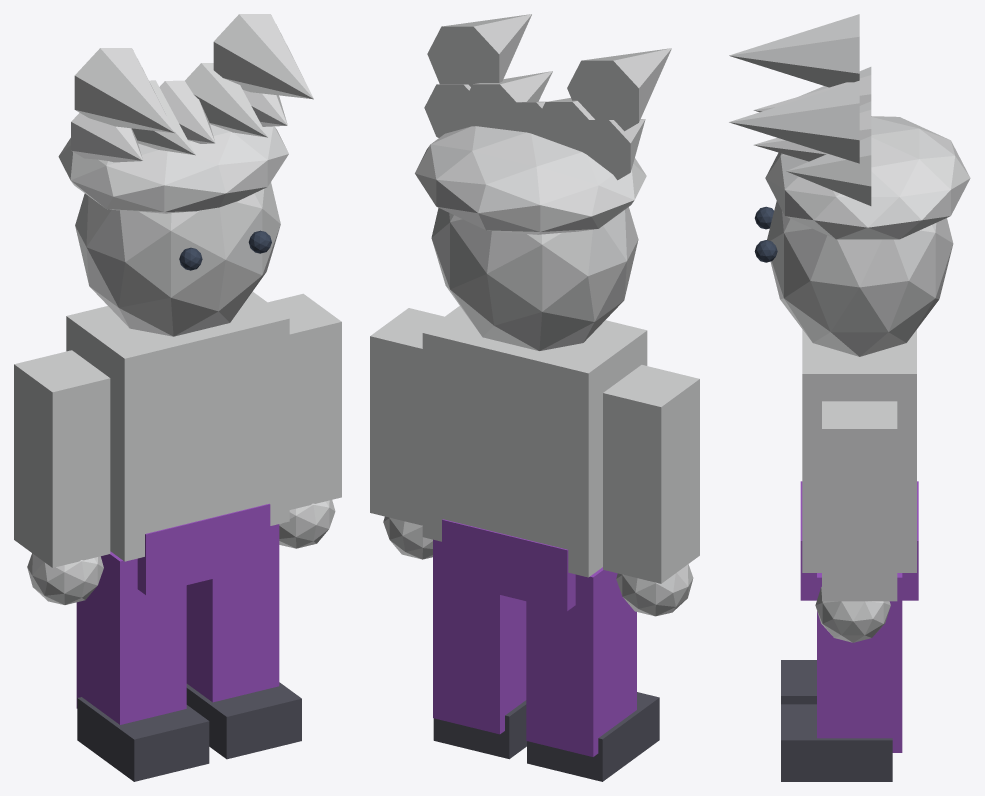
File: frieza.glb
The picture shows the model from 3 angles, left to right: view 1: azimuth 30°, elevation 25°; view 2: azimuth 150°, elevation 25°; view 3: azimuth 270°, elevation 25°; orthographic projection. The views are drawn at different scales.
Parts seen in each view (by area): view 1: part_000, part_010, part_002, part_004, part_013, part_008, part_006, part_001, part_005, part_009, part_019, part_020 (+7 smaller); view 2: part_000, part_010, part_002, part_013, part_004, part_008, part_006, part_001, part_019, part_020, part_005, part_017 (+7 smaller); view 3: part_010, part_006, part_013, part_000, part_008, part_009, part_020, part_019, part_018, part_007, part_005, part_001 (+2 smaller).
Boxes of the visible parts, x1,y1,x2,y2 form: part_000: [66, 291, 289, 561]; part_010: [75, 182, 280, 336]; part_002: [14, 350, 110, 567]; part_004: [76, 551, 186, 724]; part_013: [58, 124, 288, 213]; part_008: [186, 524, 279, 702]; part_006: [268, 293, 341, 509]; part_001: [137, 503, 270, 594]; part_005: [77, 697, 209, 781]; part_009: [186, 682, 301, 759]; part_019: [74, 48, 174, 133]; part_020: [213, 14, 313, 99]; part_000: [422, 306, 647, 577]; part_010: [431, 207, 638, 350]; part_002: [603, 365, 699, 583]; part_013: [415, 126, 646, 234]; part_004: [526, 567, 636, 756]; part_008: [433, 539, 526, 734]; part_006: [370, 308, 444, 525]; part_001: [442, 519, 575, 611]; part_019: [567, 48, 671, 131]; part_020: [427, 14, 531, 86]; part_005: [527, 692, 659, 781]; part_017: [461, 71, 552, 131]; part_010: [767, 201, 953, 356]; part_006: [822, 401, 897, 601]; part_013: [765, 116, 970, 239]; part_000: [802, 329, 916, 572]; part_008: [817, 573, 902, 752]; part_009: [781, 704, 892, 781]; part_020: [729, 80, 859, 163]; part_019: [729, 14, 859, 87]; part_018: [786, 136, 871, 205]; part_007: [815, 587, 890, 642]; part_005: [781, 660, 816, 704]; part_001: [800, 481, 918, 600].
Size of the model in its own units: 1.03 by 2.32 by 0.7378.
